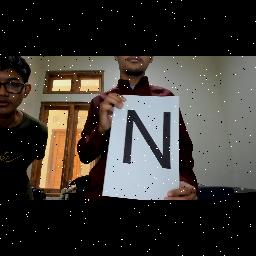n: (117, 108, 177, 178)
